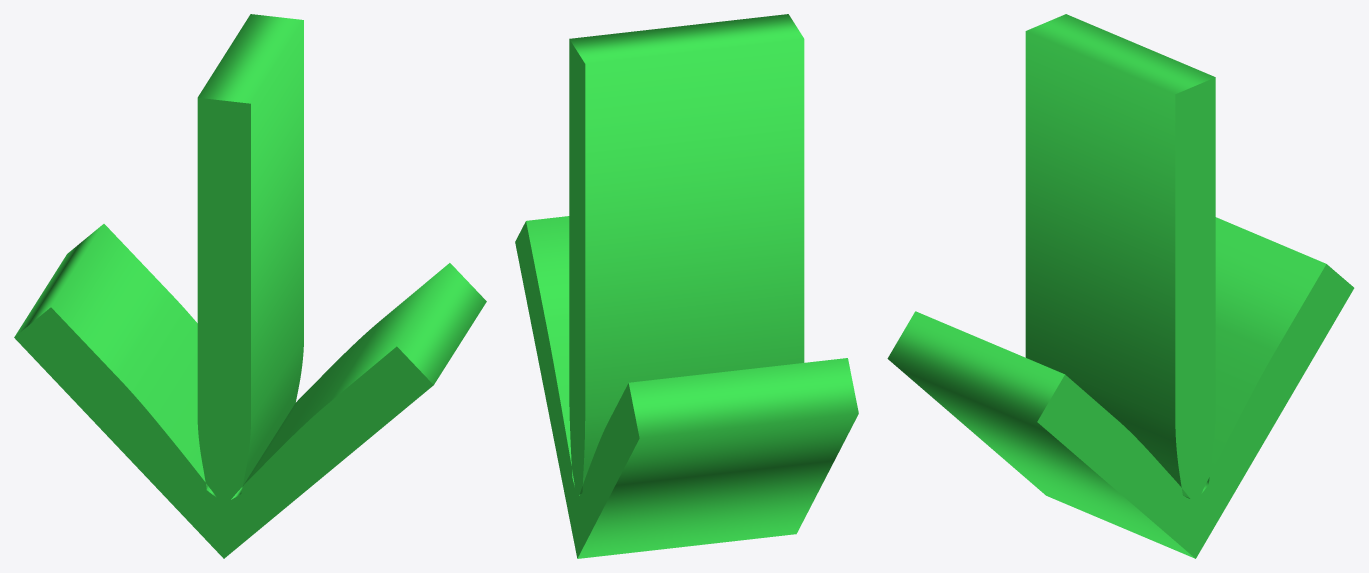
The model's file is Flecha.glb.
The picture shows the model from 3 angles, left to right: view 1: azimuth 30°, elevation 25°; view 2: azimuth 150°, elevation 25°; view 3: azimuth 270°, elevation 25°; orthographic projection. The views are drawn at different scales.
Visible parts, largest first — view 1: Text; view 2: Text; view 3: Text.
Boxes of the visible parts, box(x1,y1,x2,y2) form: Text: box(14, 14, 486, 558); Text: box(515, 14, 858, 558); Text: box(887, 14, 1354, 558).
Bounding box in the file's own units: 25.04 × 27.99 × 25.04.
